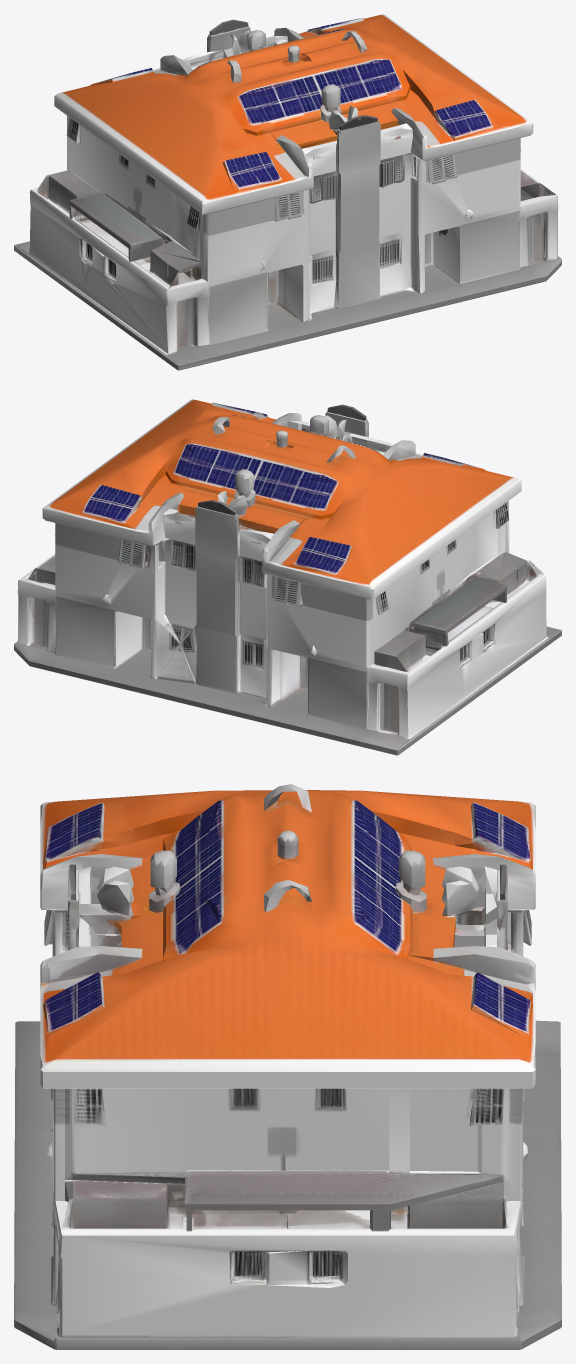
Rendered from placed_bld_556855838.glb.
3 views of the same model, one above another, from view 1: azimuth 30°, elevation 25°; view 2: azimuth 150°, elevation 25°; view 3: azimuth 270°, elevation 25° (orthographic). The views are drawn at different scales.
Visible parts, largest first — view 1: bld_556855838; view 2: bld_556855838; view 3: bld_556855838.
Part boxes in pixels (<box>): bld_556855838: <box>14,14,561,370</box>; bld_556855838: <box>14,399,561,755</box>; bld_556855838: <box>14,784,561,1349</box>.
Bounding box in the file's own units: 15.76 × 8.2 × 11.38.
1 material, 1 textured.
